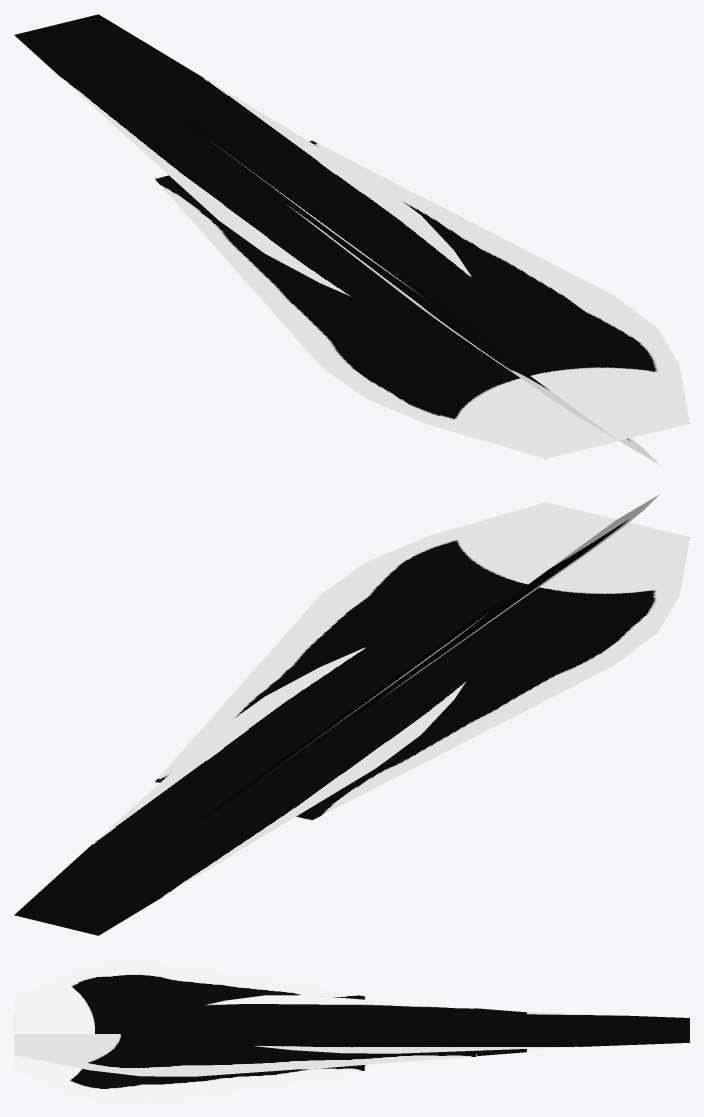
The model's file is Flames.glb.
3 views of the same model, one above another, from view 1: azimuth 30°, elevation 25°; view 2: azimuth 150°, elevation 25°; view 3: azimuth 270°, elevation 25° (orthographic). The views are drawn at different scales.
Visible parts, largest first — view 1: Flames; view 2: Flames; view 3: Flames.
Part boxes in pixels (bbox=[...]): Flames: bbox=[14, 14, 689, 464]; Flames: bbox=[14, 494, 689, 935]; Flames: bbox=[14, 964, 689, 1102].
Bounding box in the file's own units: 0.778 × 0.3681 × 2.58.
Materials: 1 (1 with a texture image).
